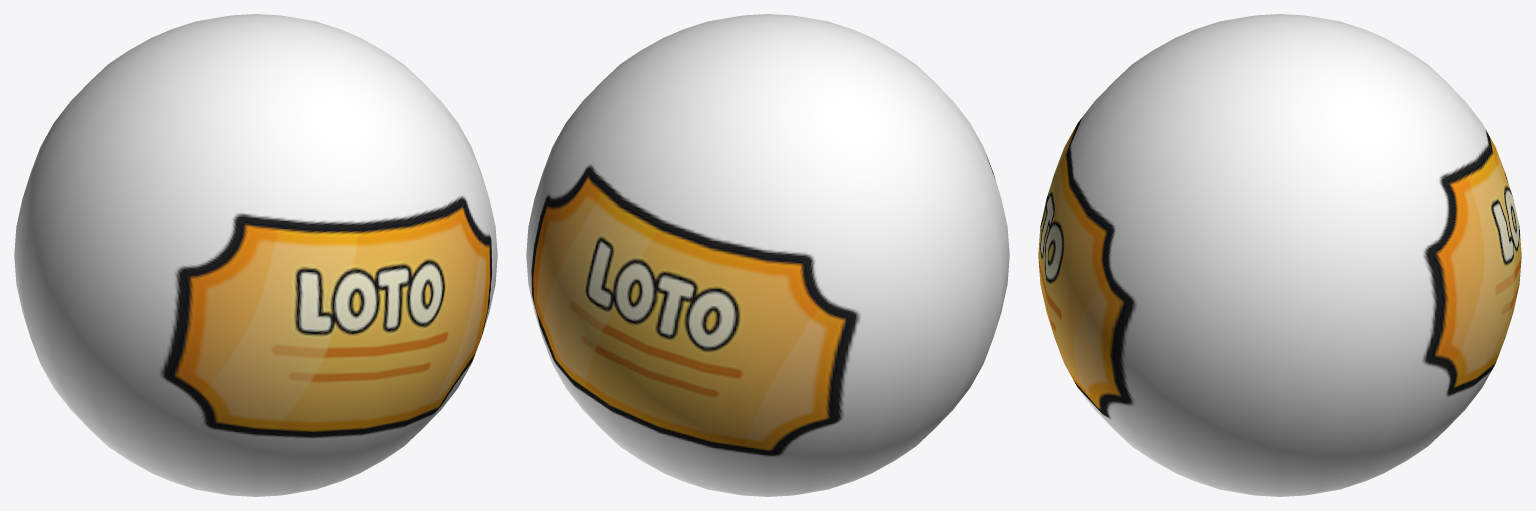
The model's file is Ticket_sphere.fbx.
3 renders of one model, left to right at view 1: azimuth 30°, elevation 25°; view 2: azimuth 150°, elevation 25°; view 3: azimuth 270°, elevation 25°, orthographic.
Visible parts, largest first — view 1: Sphere_loto; view 2: Sphere_loto; view 3: Sphere_loto.
Boxes of the visible parts, box(x1,y1,x2,y2) form: Sphere_loto: box(14, 14, 497, 496); Sphere_loto: box(526, 14, 1009, 496); Sphere_loto: box(1038, 14, 1521, 496).
Size of the model in its own units: 29.99 by 29.99 by 29.99.
